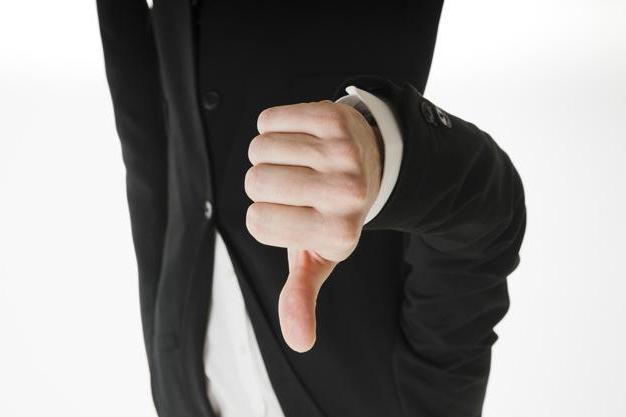thumbsdown: (244, 101, 370, 355)
